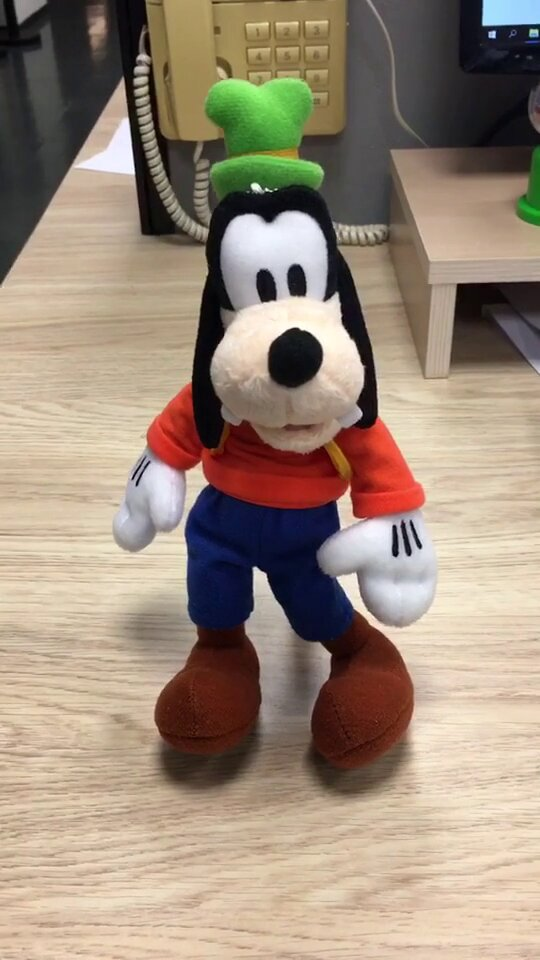goofy: (104, 70, 441, 772)
